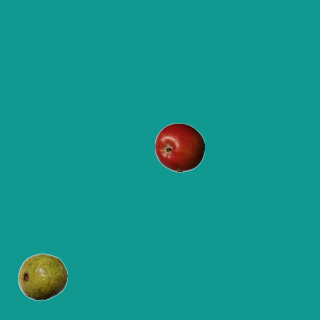Apple Braeburn: (154, 122, 204, 172)
Guava: (17, 251, 67, 301)
